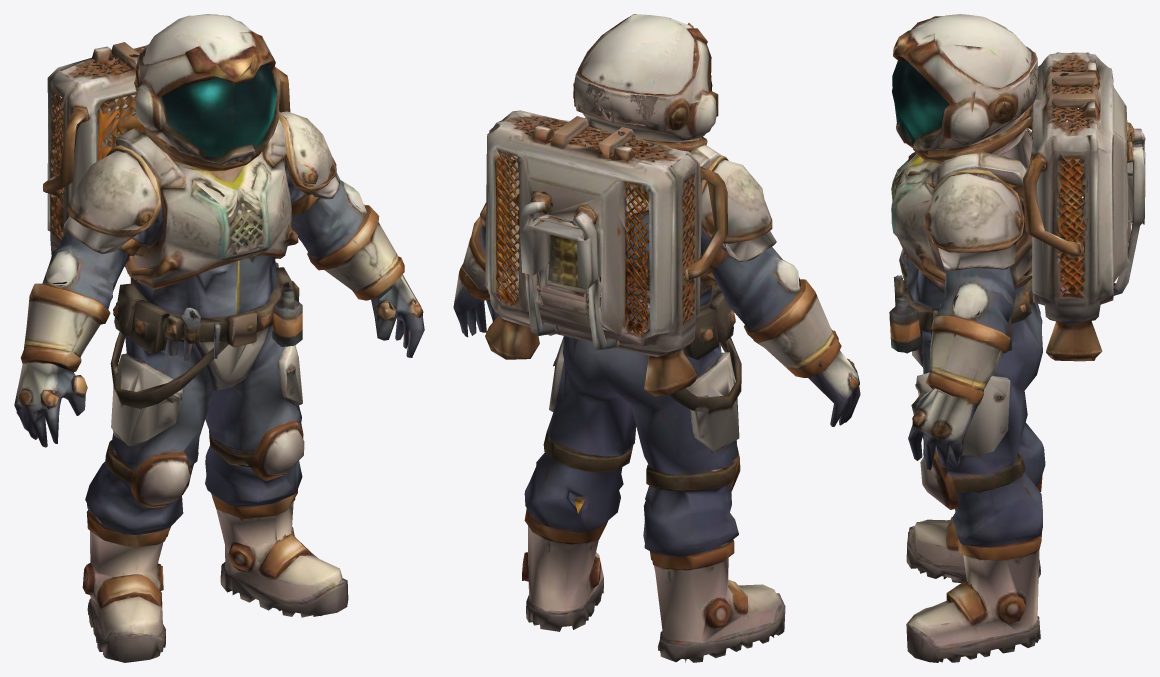
File: custodian.glb
3 renders of one model, left to right at view 1: azimuth 30°, elevation 25°; view 2: azimuth 150°, elevation 25°; view 3: azimuth 270°, elevation 25°, orthographic. The views are drawn at different scales.
Visible parts, largest first — view 1: world; view 2: world; view 3: world.
Part boxes in pixels (x1=…): world: x1=14, y1=14, x2=424, y2=662; world: x1=453, y1=14, x2=860, y2=662; world: x1=889, y1=14, x2=1145, y2=662.
Bounding box in the file's own units: 1.29 × 1.85 × 0.7331.
Materials: 1 (1 with a texture image).
